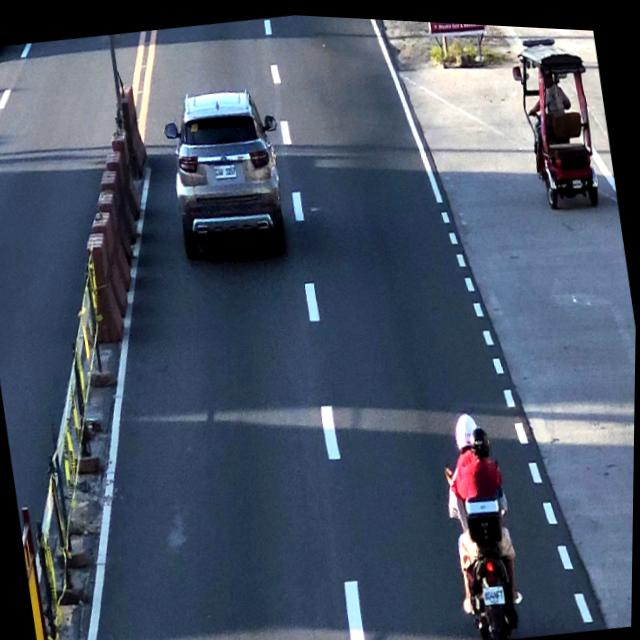Car: (163, 78, 292, 261)
License-Plate: (479, 576, 510, 602), (211, 157, 238, 180)
Motorcycle: (432, 399, 535, 640)
